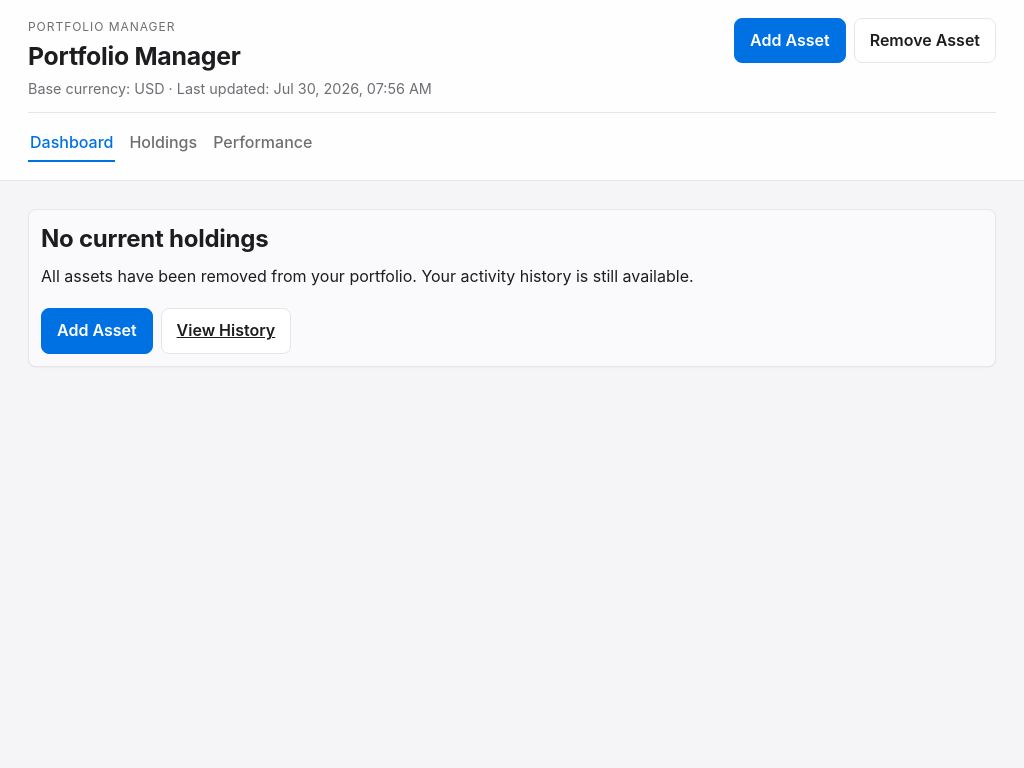
Portfolio Manager frontend › shows database history when no current holdings remain
Expected: the heading "No current holdings" is shown, [41, 224, 268, 253]
Step 1. Click the link "View History" → (226, 331), box [161, 308, 291, 354]
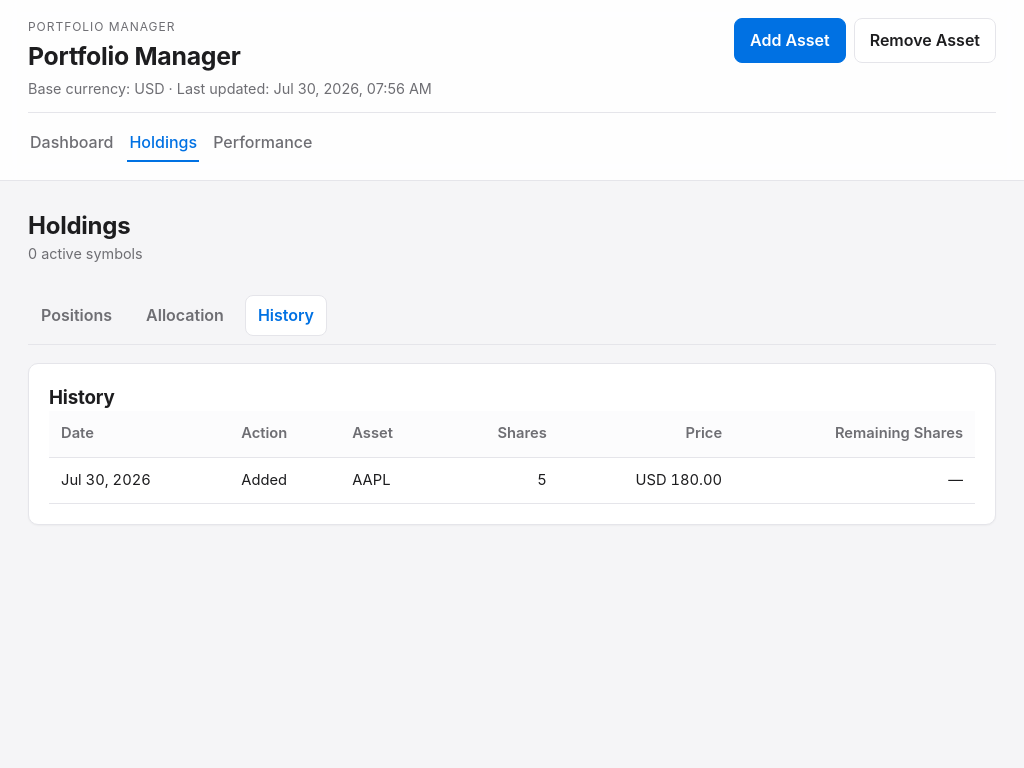
Expected: the heading "History" is shown, [49, 386, 114, 409]
Now the text "Added" is shown, box [229, 457, 340, 504]
Now the text "AAPL" is shown, box [340, 457, 443, 504]
